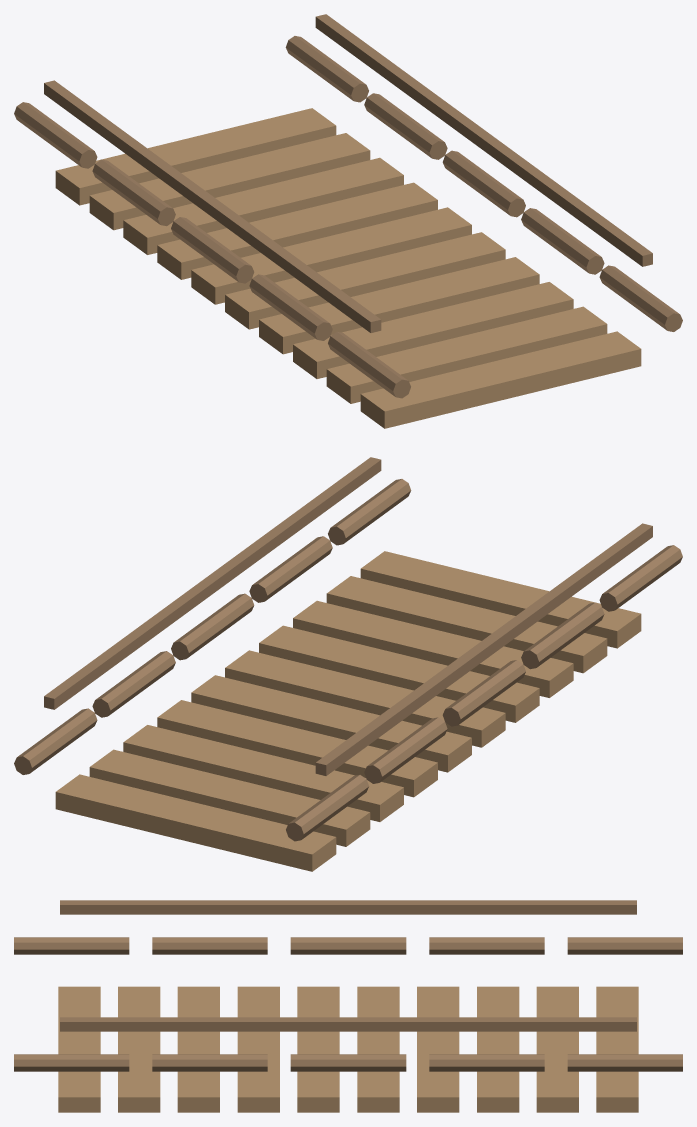
Rendered from forest_bridge.glb.
The picture shows the model from 3 angles, top to bottom: view 1: azimuth 30°, elevation 25°; view 2: azimuth 150°, elevation 25°; view 3: azimuth 270°, elevation 25°; orthographic projection. The views are drawn at different scales.
Visible parts, largest first — view 1: plank9, plank8, plank7, plank2, plank4, plank0, plank6, plank1, plank3, plank5, rail18, rail-18 (+10 smaller); view 2: plank0, plank1, plank2, plank7, plank5, plank9, plank3, plank8, plank4, plank6, rail18, rail-18 (+10 smaller); view 3: rail-18, rail18, plank1, plank8, plank3, plank6, plank0, plank9, plank4, plank5, plank2, plank7 (+10 smaller).
Boxes of the visible parts, x1=… form: plank9: x1=360, y1=331, x2=641, y2=428; plank8: x1=326, y1=306, x2=607, y2=403; plank7: x1=293, y1=282, x2=573, y2=378; plank2: x1=123, y1=157, x2=403, y2=254; plank4: x1=191, y1=207, x2=471, y2=304; plank0: x1=55, y1=108, x2=336, y2=205; plank6: x1=259, y1=257, x2=539, y2=354; plank1: x1=89, y1=133, x2=370, y2=230; plank3: x1=157, y1=182, x2=437, y2=279; plank5: x1=225, y1=232, x2=505, y2=329; rail18: x1=315, y1=14, x2=652, y2=266; rail-18: x1=44, y1=80, x2=381, y2=332; plank0: x1=55, y1=774, x2=336, y2=871; plank1: x1=89, y1=749, x2=370, y2=846; plank2: x1=123, y1=725, x2=403, y2=821; plank7: x1=293, y1=600, x2=573, y2=697; plank5: x1=225, y1=650, x2=505, y2=747; plank9: x1=360, y1=551, x2=641, y2=648; plank3: x1=157, y1=700, x2=437, y2=797; plank8: x1=326, y1=576, x2=607, y2=673; plank4: x1=191, y1=675, x2=471, y2=772; plank6: x1=259, y1=625, x2=539, y2=722; rail18: x1=44, y1=457, x2=381, y2=709; rail-18: x1=315, y1=523, x2=652, y2=775; rail-18: x1=60, y1=900, x2=636, y2=914; rail18: x1=60, y1=1017, x2=636, y2=1031; plank1: x1=536, y1=986, x2=578, y2=1112; plank8: x1=118, y1=986, x2=160, y2=1112; plank3: x1=417, y1=986, x2=459, y2=1112; plank6: x1=237, y1=986, x2=279, y2=1112; plank0: x1=596, y1=986, x2=638, y2=1112; plank9: x1=58, y1=986, x2=100, y2=1112; plank4: x1=357, y1=986, x2=399, y2=1112; plank5: x1=297, y1=986, x2=339, y2=1112; plank2: x1=477, y1=986, x2=519, y2=1112; plank7: x1=177, y1=986, x2=219, y2=1112.
Bounding box in the file's own units: 3.84 × 1.38 × 8.7.
